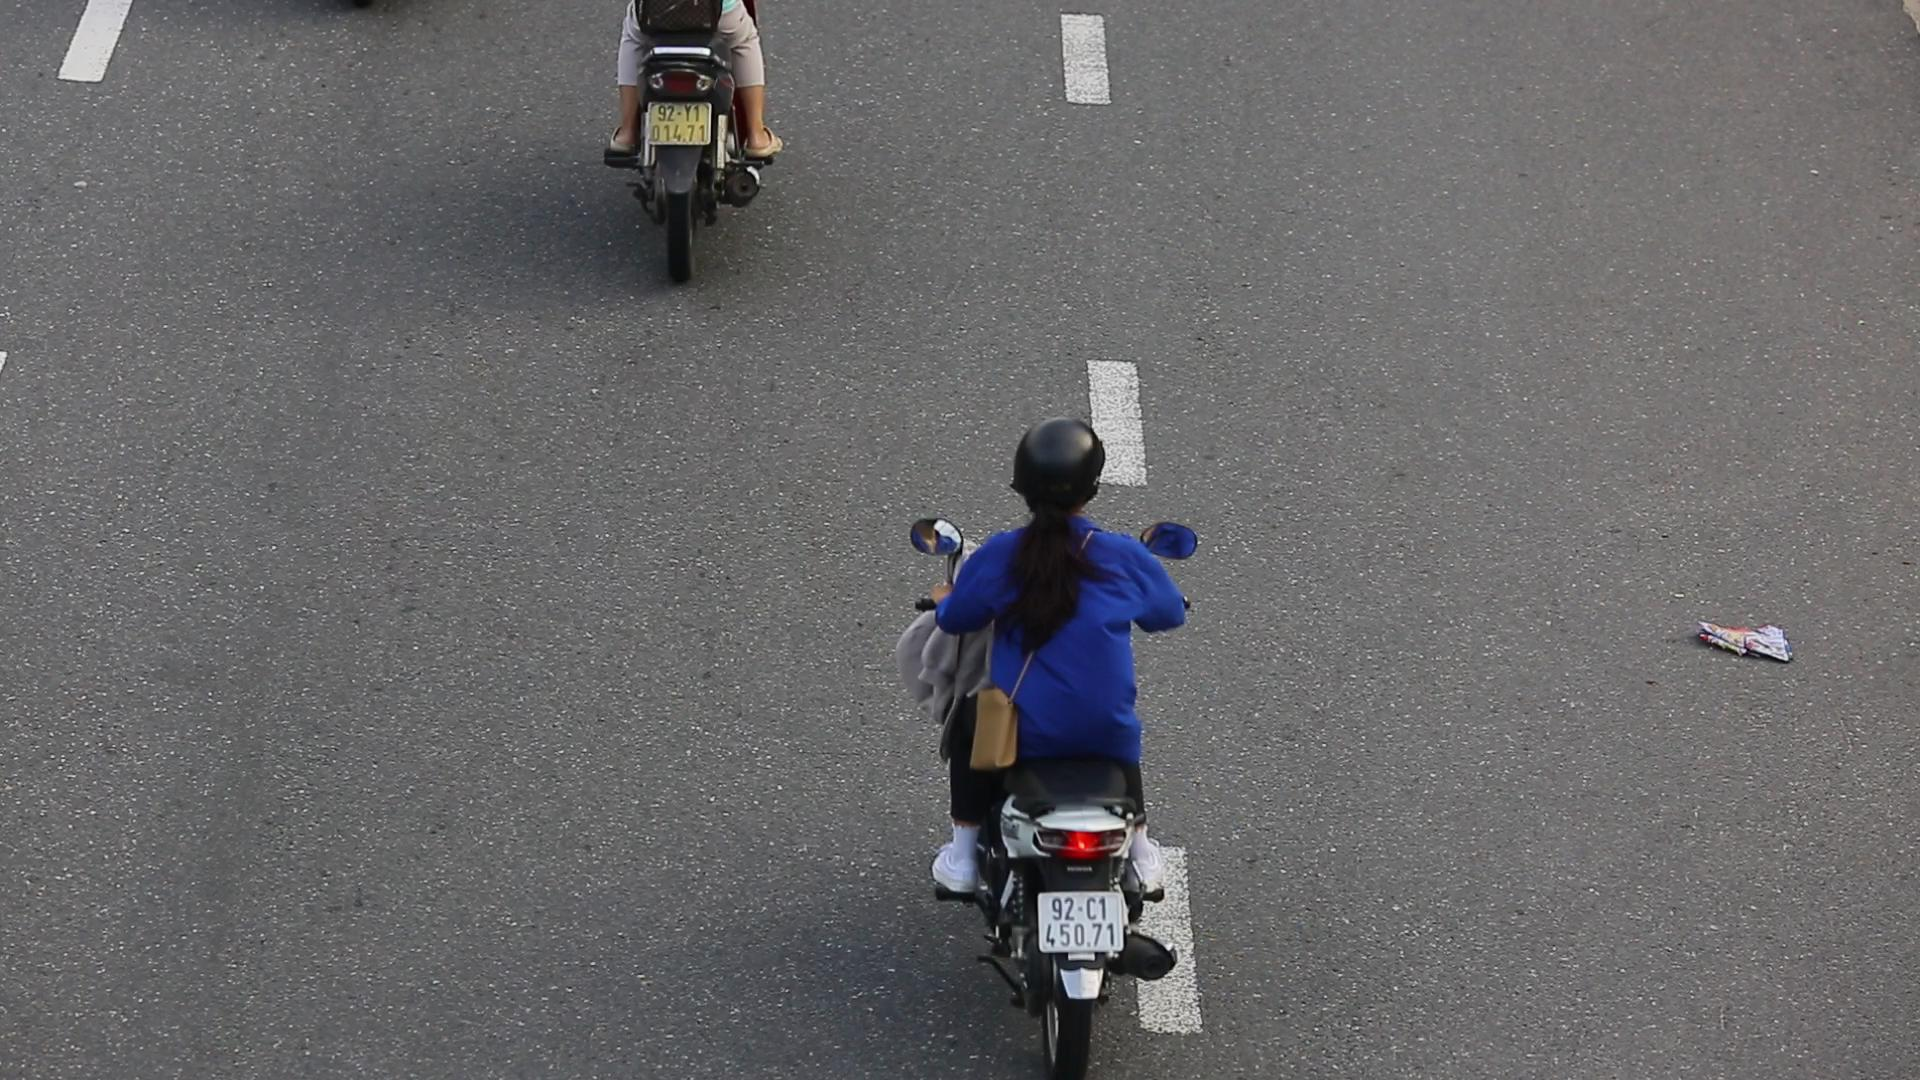motobike: (922, 407, 1228, 1080)
